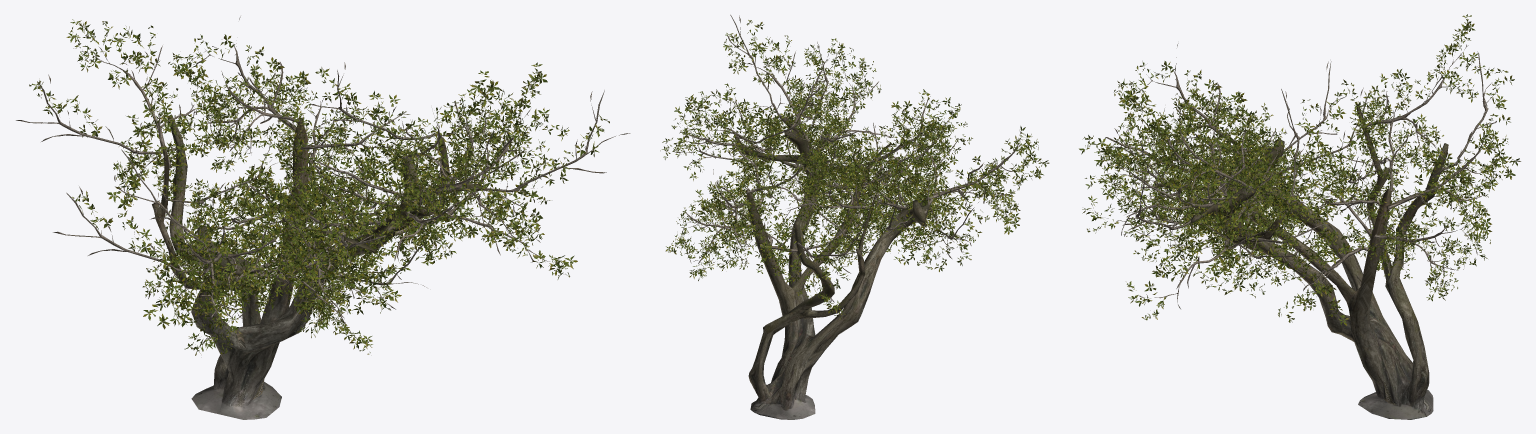
The model's file is IslandTree_02.glb.
3 renders of one model, left to right at view 1: azimuth 30°, elevation 25°; view 2: azimuth 150°, elevation 25°; view 3: azimuth 270°, elevation 25°, orthographic. The views are drawn at different scales.
Visible parts, largest first — view 1: island_tree_02_LOD0; view 2: island_tree_02_LOD0; view 3: island_tree_02_LOD0.
Boxes of the visible parts, <box> form: island_tree_02_LOD0: <box>16,16,630,419</box>; island_tree_02_LOD0: <box>660,14,1049,419</box>; island_tree_02_LOD0: <box>1079,14,1520,419</box>.
Bounding box in the file's own units: 4.21 × 3.4 × 4.07.
Materials: 3 (3 with a texture image).
